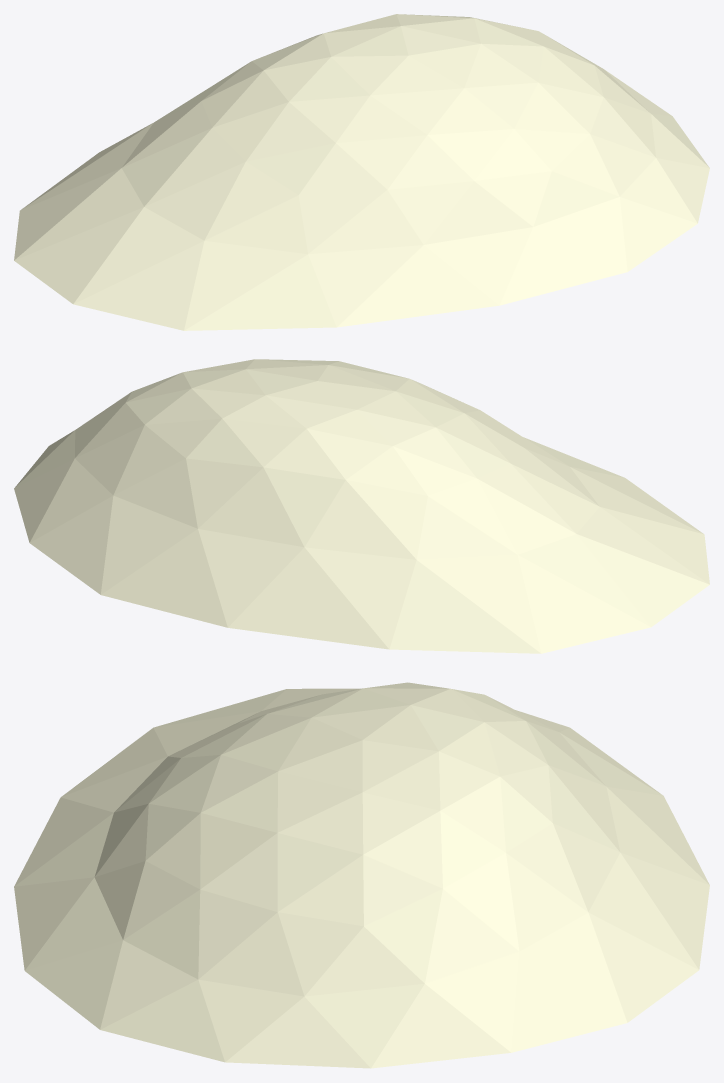
Rendered from Sand1.FBX.
The picture shows the model from 3 angles, top to bottom: view 1: azimuth 30°, elevation 25°; view 2: azimuth 150°, elevation 25°; view 3: azimuth 270°, elevation 25°; orthographic projection. The views are drawn at different scales.
Parts seen in each view (by area): view 1: Sand1; view 2: Sand1; view 3: Sand1.
Part boxes in pixels (x1=…): Sand1: x1=14, y1=14, x2=709, y2=330; Sand1: x1=14, y1=359, x2=709, y2=653; Sand1: x1=14, y1=682, x2=709, y2=1068.
Bounding box in the file's own units: 198 × 42.41 × 148.
